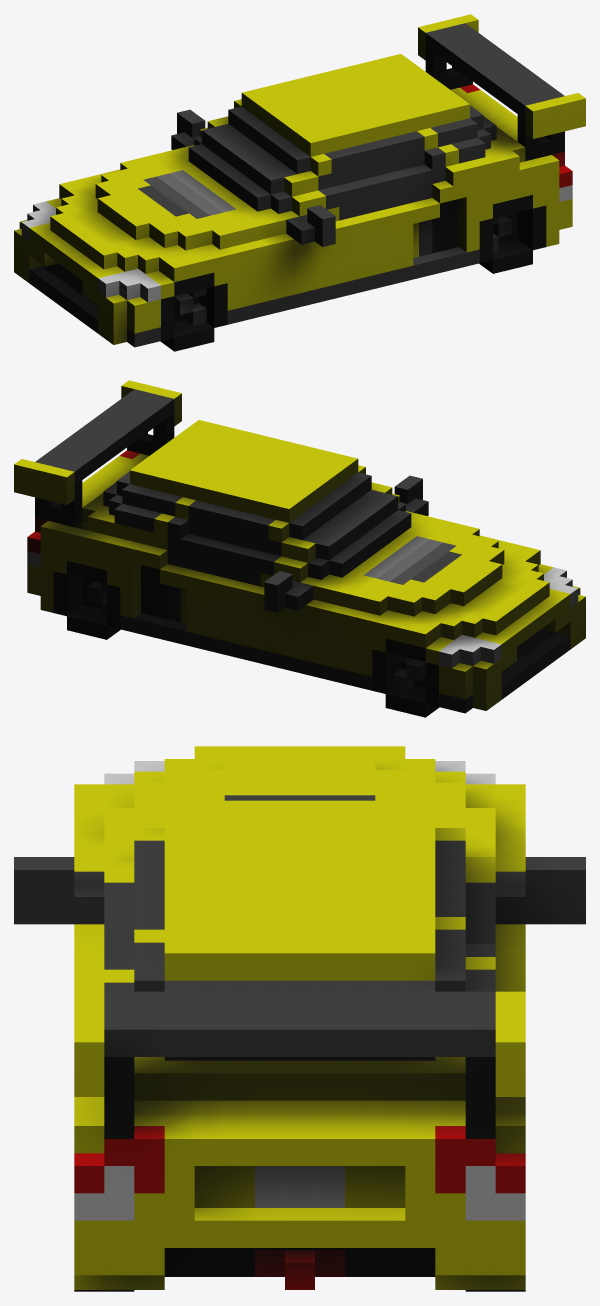
File: VoxelCar.fbx
3 views of the same model, one above another, from view 1: azimuth 30°, elevation 25°; view 2: azimuth 150°, elevation 25°; view 3: azimuth 270°, elevation 25° (orthographic). The views are drawn at different scales.
Parts seen in each view (by area): view 1: VoxelCar_bake_; view 2: VoxelCar_bake_; view 3: VoxelCar_bake_.
Boxes of the visible parts, x1,y1,x2,y2 form: VoxelCar_bake_: [14, 14, 585, 351]; VoxelCar_bake_: [14, 380, 585, 717]; VoxelCar_bake_: [14, 746, 585, 1291].
Size of the model in its own units: 3500 by 1100 by 1900.
